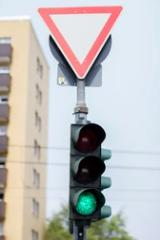green_light: (69, 123, 106, 219)
